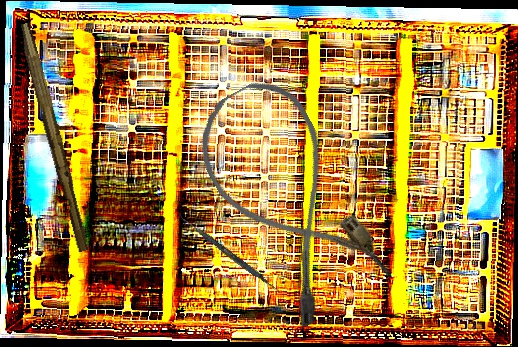Cannula: (180, 67, 397, 332)
Scalpel Handle: (12, 22, 95, 253)
Spatula Surgical: (174, 212, 284, 295)
